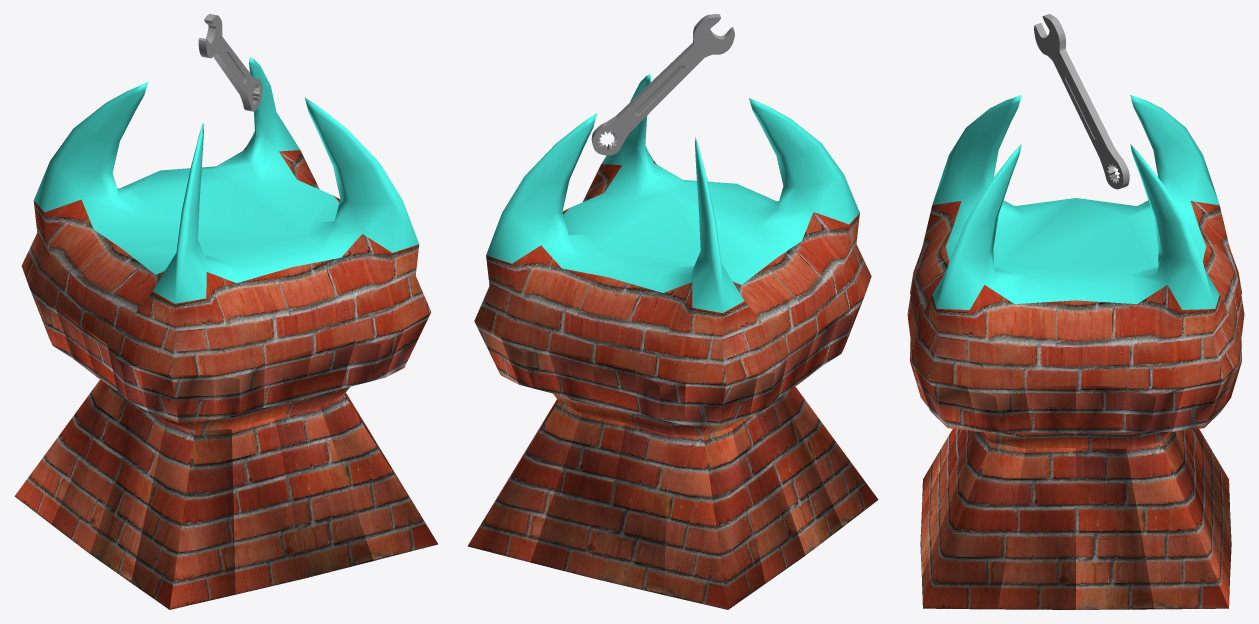
File: 機件工廠.FBX
3 views of the same model, side by side, from view 1: azimuth 30°, elevation 25°; view 2: azimuth 150°, elevation 25°; view 3: azimuth 270°, elevation 25° (orthographic). The views are drawn at different scales.
Parts seen in each view (by area): view 1: 輔助塔下, 板手; view 2: 輔助塔下, 板手; view 3: 輔助塔下, 板手.
Part boxes in pixels (x1=…): 輔助塔下: x1=14, y1=57, x2=437, y2=609; 板手: x1=198, y1=14, x2=262, y2=111; 輔助塔下: x1=467, y1=74, x2=878, y2=609; 板手: x1=591, y1=14, x2=734, y2=155; 輔助塔下: x1=907, y1=95, x2=1244, y2=609; 板手: x1=1034, y1=14, x2=1129, y2=189.
Bounding box in the file's own units: 46.16 × 77.62 × 46.17.
3 materials, 1 textured.
